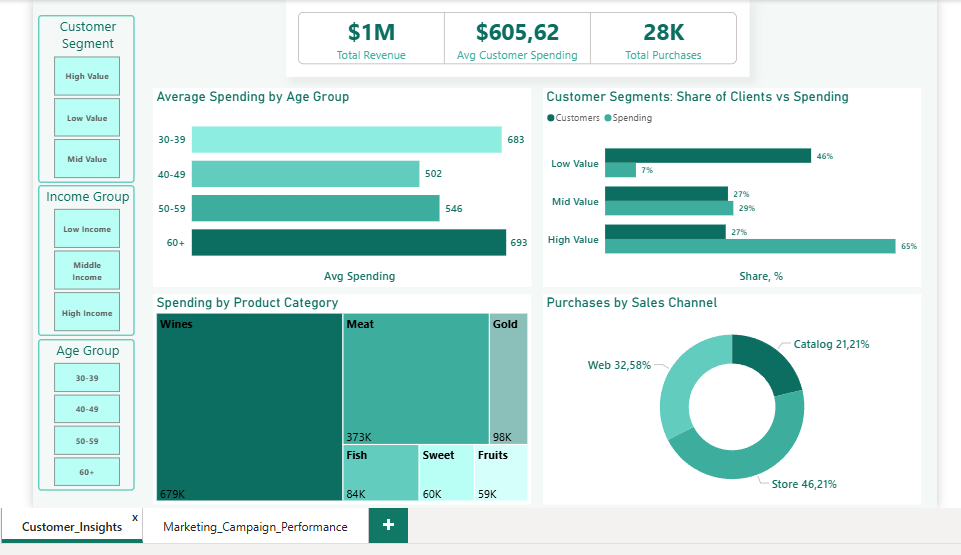

This screenshot's page, from the dashboard's own definition file:
{"tool":"powerbi","page":{"name":"Customer_Insights_en","canvas":[1280,720],"ordinal":0},"visuals":[{"type":"cardVisual","fields":{"Data":["_Measures.Total Revenue","_Measures.Avg Customer Spending","_Measures.Total Purchases"]},"box":[359.2,0,656.6,108.7],"z":0},{"type":"slicer","title":"Customer Segment","fields":{"Values":["marketing_campaign_features.Customer Segment UA"]},"box":[7.1,21.7,137.5,238.1],"z":1000},{"type":"slicer","title":"Income Group","fields":{"Values":["marketing_campaign_features.Income Group"]},"box":[7.1,262.6,137.5,214],"z":2000},{"type":"slicer","title":"Age Group","fields":{"Values":["marketing_campaign_features.Age Group"]},"box":[7.1,480.9,137.5,215.4],"z":3000},{"type":"clusteredBarChart","title":"Customer Segments: Share of Clients vs Spending","fields":{"Category":["marketing_campaign_features.Customer Segment"],"Y":["_Measures.% of Customers","_Measures.% of Revenue"]},"box":[723.5,124.8,536.3,281.6],"z":4000},{"type":"clusteredBarChart","title":"Average Spending by Age Group","fields":{"Category":["marketing_campaign_features.Age Group"],"Y":["_Measures.Avg Spending by Product"]},"box":[170.3,124.8,536.3,281.6],"z":5000},{"type":"treemap","title":"Purchase Volume by Product Category","fields":{"Group":["Product_Unpivoted.ProductCategory"],"Values":["_Measures.Product spending Virtual"]},"box":[170.3,416.5,536.3,298.5],"z":6000},{"type":"donutChart","title":"Revenue by Sales Channel","fields":{"Category":["marketing_campaign_features.Preferred_Channel"],"Y":["_Measures.Total Revenue"]},"box":[723,417,536,298],"z":7000}]}

Visuals, with their boxes on the page's 1280x720 design canvas (x1, y1, x2, y2). These are canvas units, not pixel positions in the 961x555 screenshot, which may show the page scaled, cropped or inside an application window:
cardVisual - _Measures.Total Revenue x _Measures.Avg Customer Spending: 359:0:1016:109
"Customer Segment" slicer: 7:22:145:260
"Income Group" slicer: 7:263:145:477
"Age Group" slicer: 7:481:145:696
"Customer Segments: Share of Clients vs Spending" clusteredBarChart: 724:125:1260:406
"Average Spending by Age Group" clusteredBarChart: 170:125:707:406
"Purchase Volume by Product Category" treemap: 170:416:707:715
"Revenue by Sales Channel" donutChart: 723:417:1259:715
